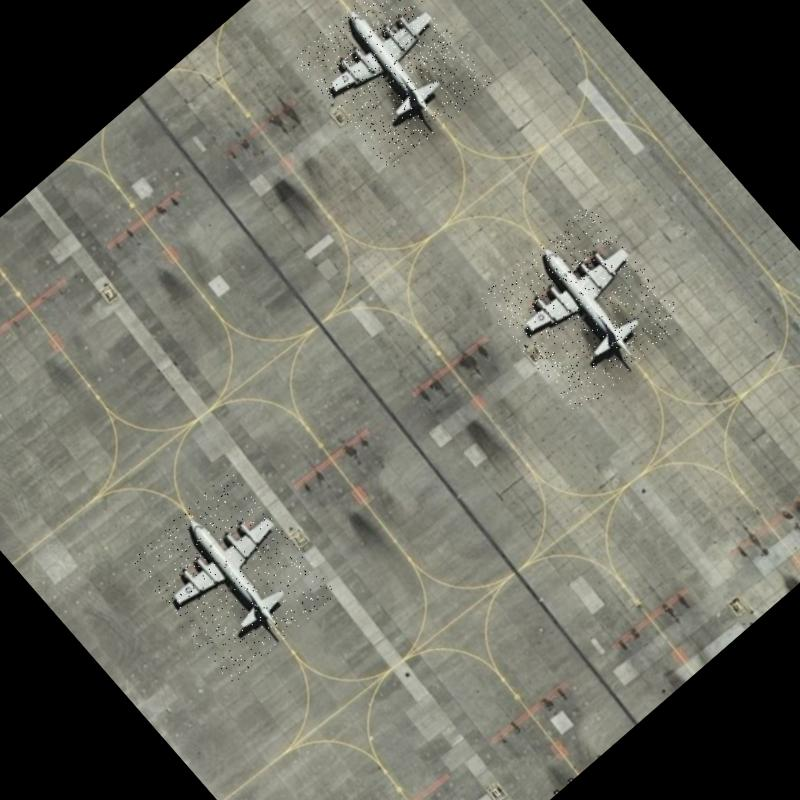A9: (125, 469, 338, 684), (477, 202, 689, 415), (291, 0, 494, 171)
